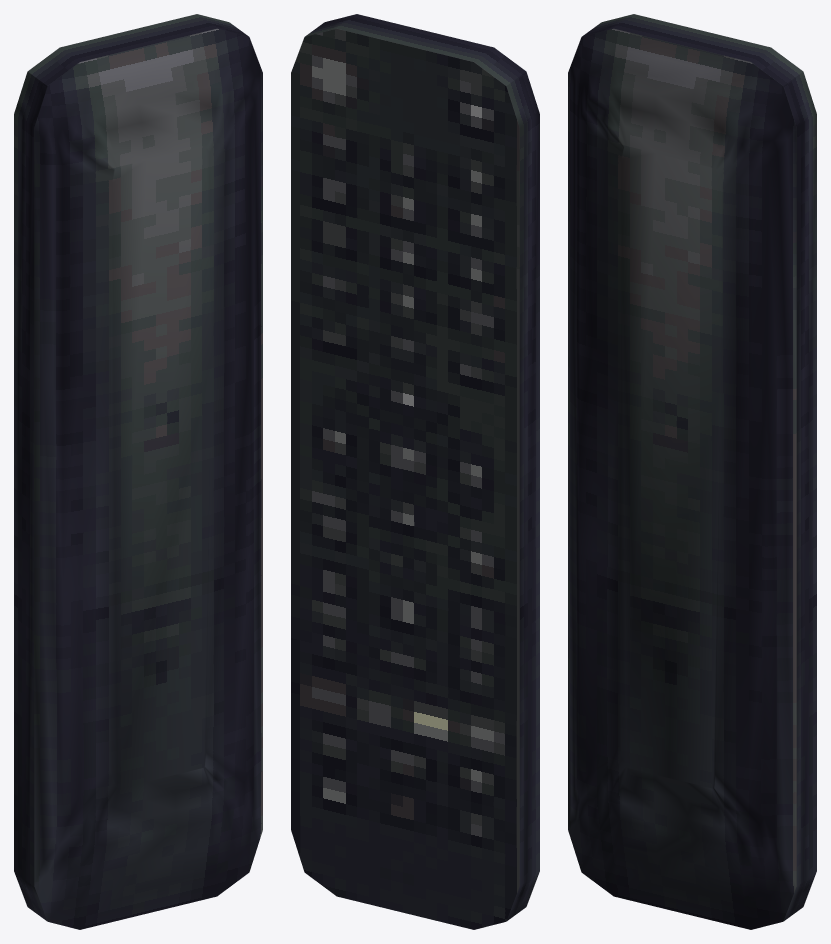
The model's file is remote.glb.
The picture shows the model from 3 angles, left to right: view 1: azimuth 30°, elevation 25°; view 2: azimuth 150°, elevation 25°; view 3: azimuth 330°, elevation 25°; orthographic projection.
Visible parts, largest first — view 1: tv_remote1; view 2: tv_remote1; view 3: tv_remote1.
Part boxes in pixels (bbox=[...]): tv_remote1: bbox=[14, 14, 262, 929]; tv_remote1: bbox=[291, 14, 539, 929]; tv_remote1: bbox=[568, 14, 816, 929].
Bounding box in the file's own units: 0.0143 × 0.0517 × 0.0035.
1 material, 1 textured.
